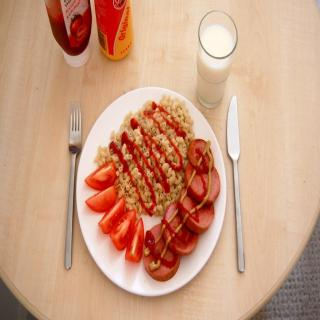tomato: (108, 206, 136, 250), (85, 159, 117, 197), (98, 197, 127, 234), (125, 216, 145, 264), (84, 186, 117, 213)
